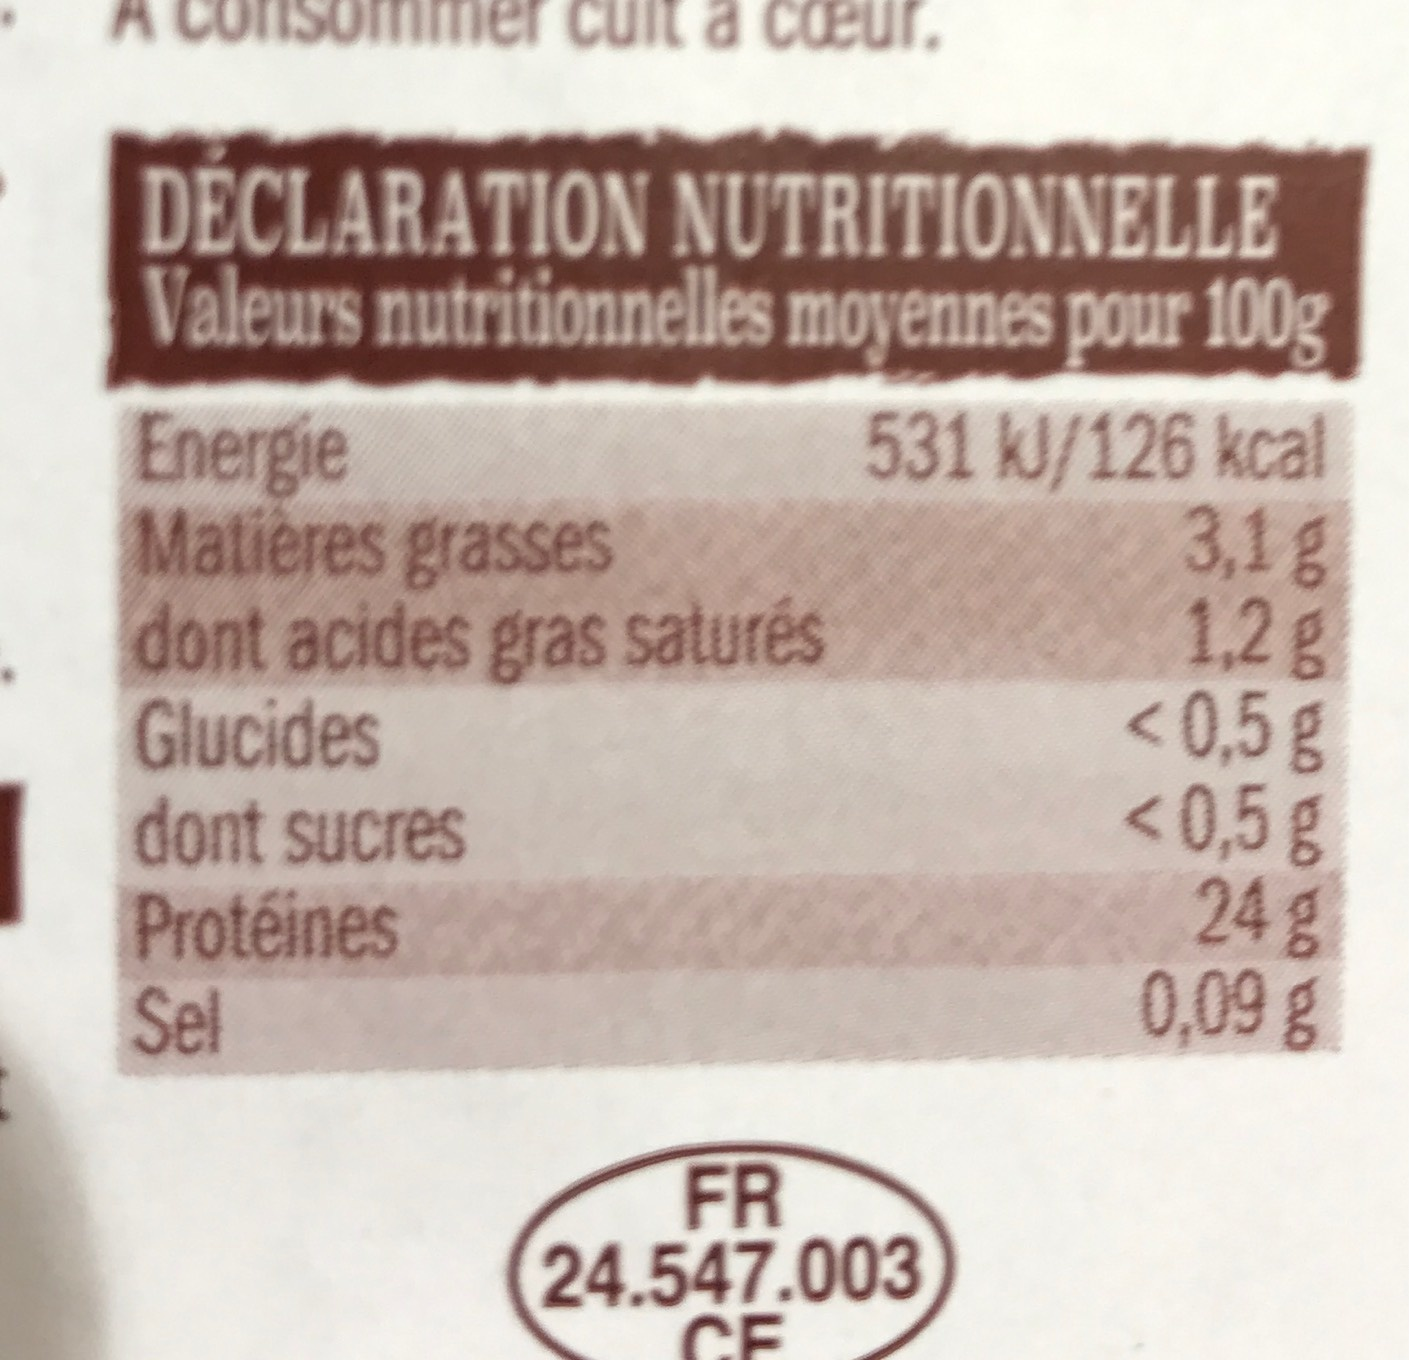column: (114, 382, 837, 1063), (850, 384, 1341, 1057)
table: (109, 387, 1345, 1062)
